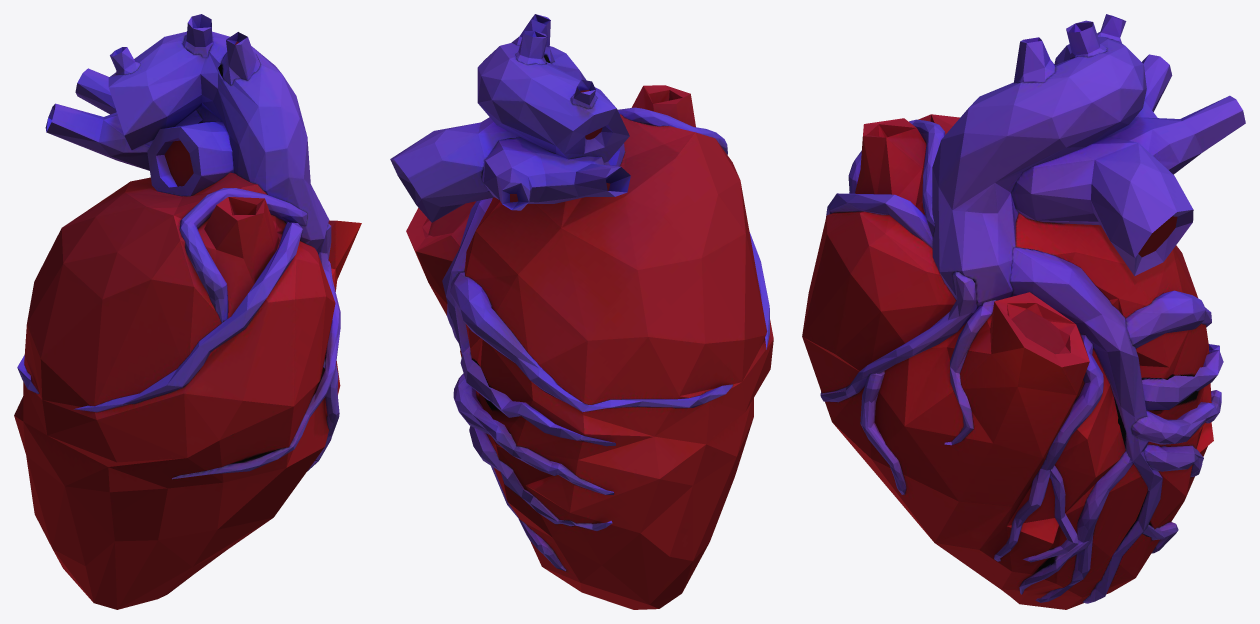
Rendered from heart.glb.
3 renders of one model, left to right at view 1: azimuth 30°, elevation 25°; view 2: azimuth 150°, elevation 25°; view 3: azimuth 270°, elevation 25°, orthographic. The views are drawn at different scales.
Visible parts, largest first — view 1: node-0; view 2: node-0; view 3: node-0.
Boxes of the visible parts, x1,y1,x2,y2 form: node-0: (14, 14, 361, 609); node-0: (390, 14, 773, 609); node-0: (802, 14, 1245, 609).
Size of the model in its own units: 0.4931 by 0.8064 by 0.5215.
1 material, 1 textured.
